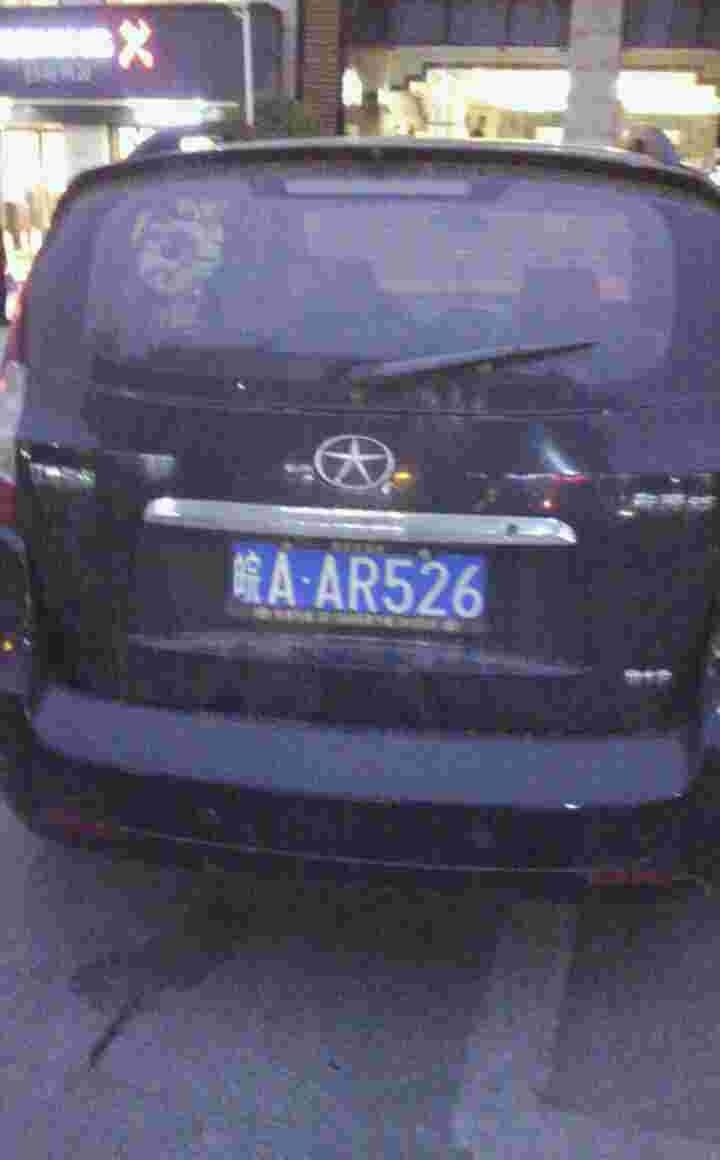license_plate: (221, 542, 492, 623)
